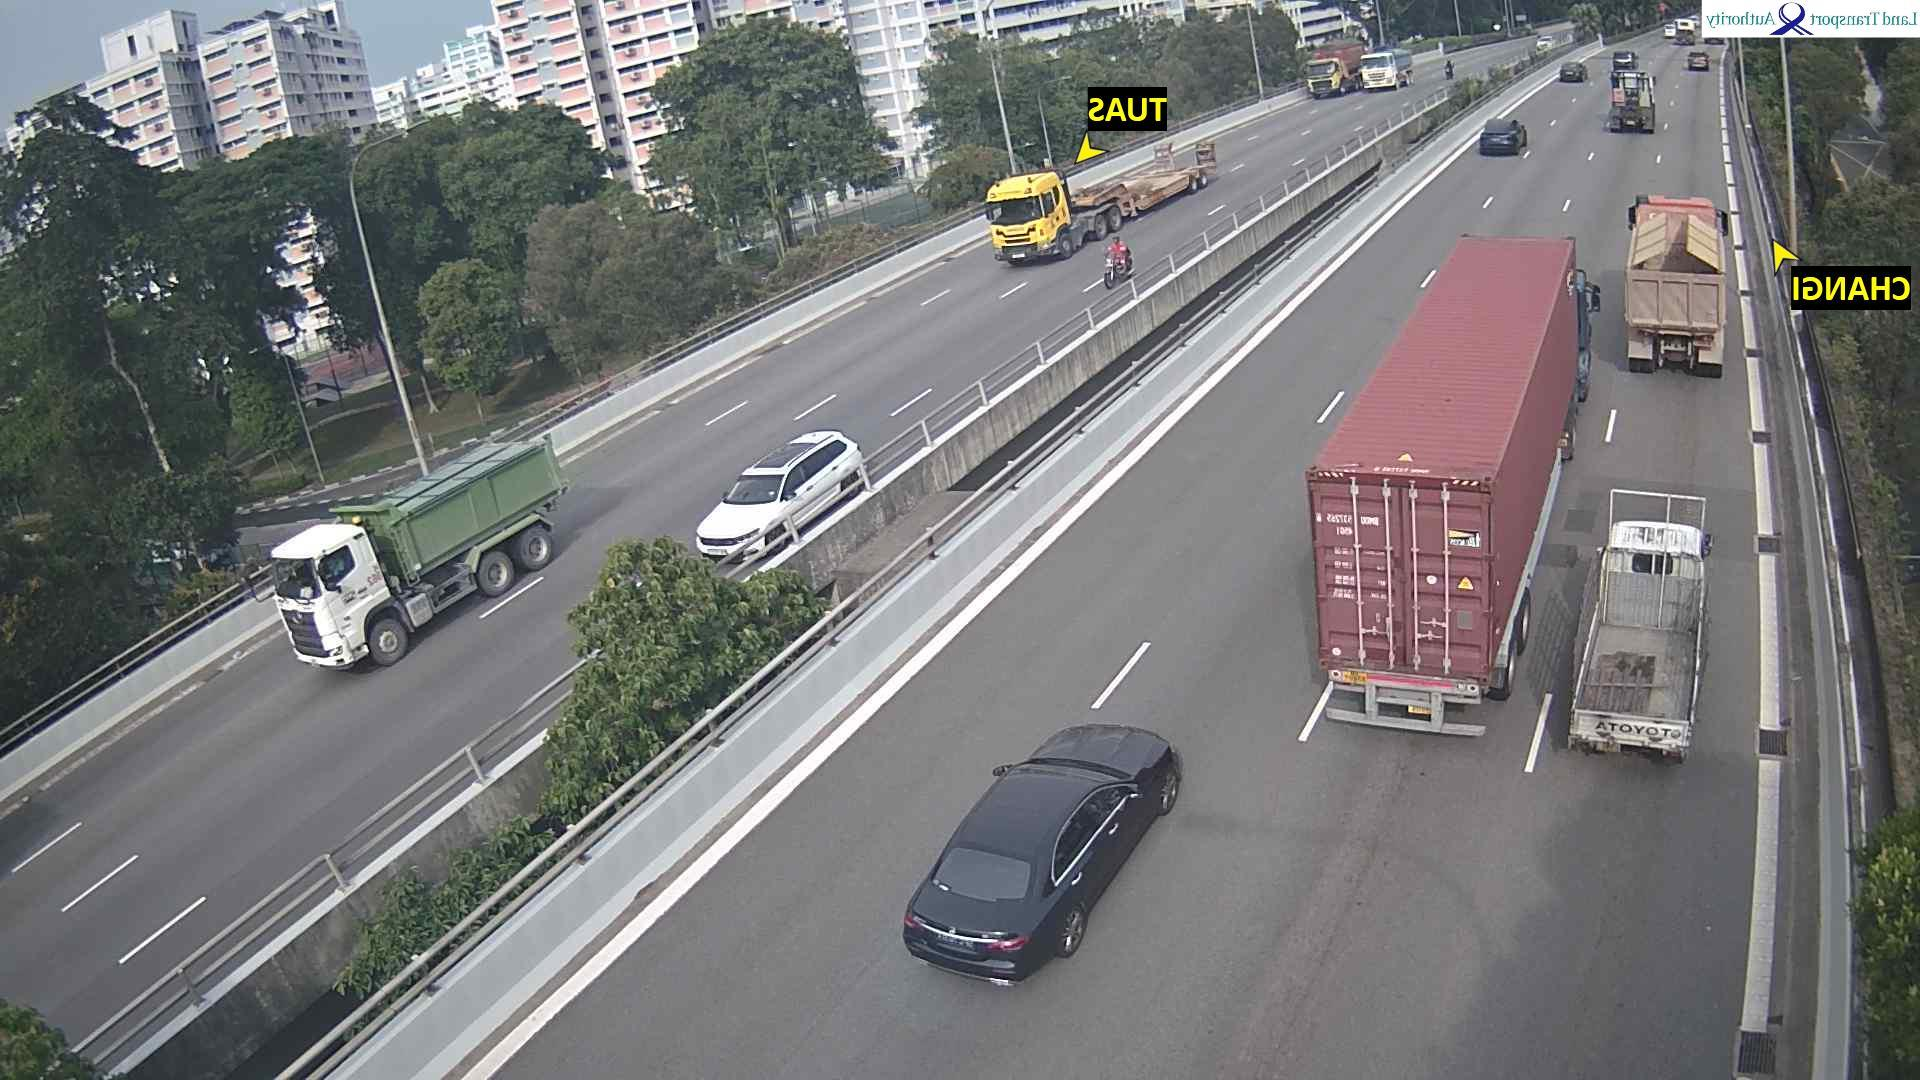incoming: (235, 521, 409, 692), (692, 467, 798, 567), (982, 166, 1078, 276), (1298, 58, 1347, 100), (1358, 53, 1399, 93), (1097, 247, 1125, 293), (1535, 36, 1555, 51), (1441, 61, 1454, 81)
